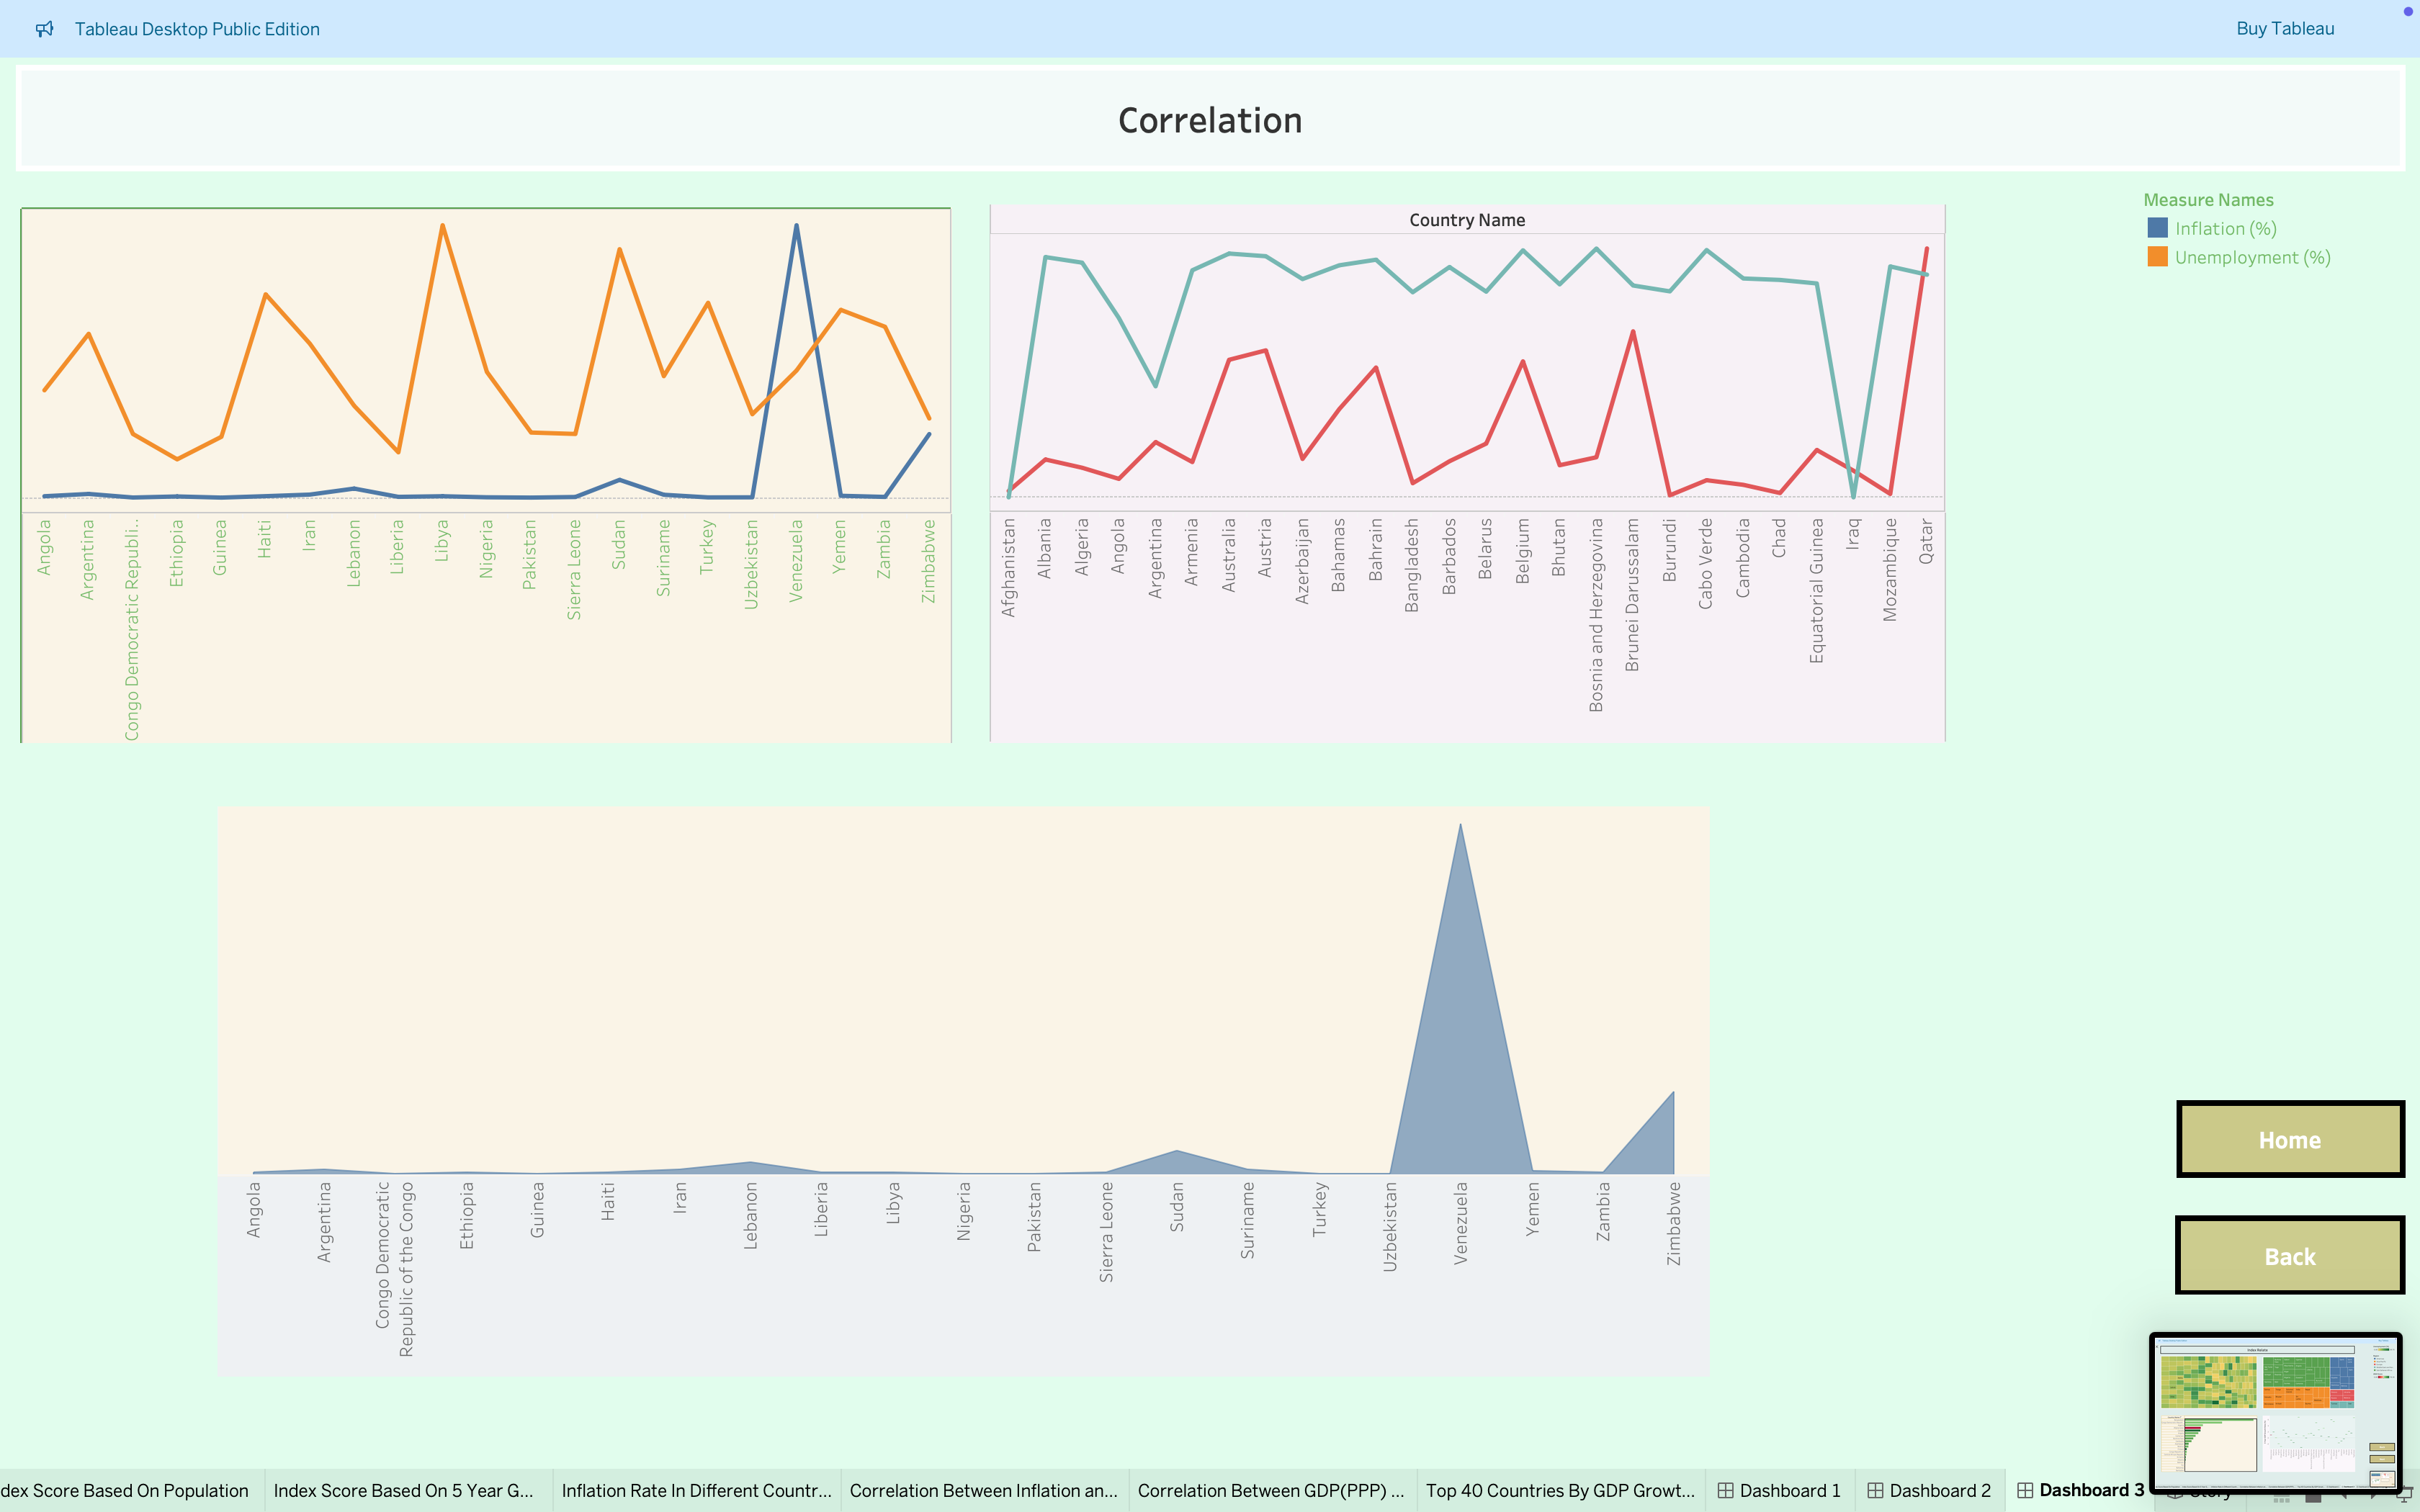

This screenshot's page, from the dashboard's own definition file:
{"tool":"tableau","page":{"name":"Dashboard 3","canvas":[1000,1000],"units":"permille","ordinal":2},"visuals":[{"type":"title","box":[6.8,5.5,987.8,75.2]},{"type":"legend","title":"Correlation Between Inflation and Unemployment Rate","param":"[federated.042wyc91rotaj818snlb71x89js2].[:Measure Names]","box":[883.6,88.2,108.9,100.2]},{"type":"worksheet","title":"Correlation Between GDP(PPP) And Monetary Freedom","mark":"Line","rows":["GDP per Capita (PPP)","Monetary Freedom"],"cols":["Country Name"],"box":[409.1,104.6,395.5,381.3]},{"type":"worksheet","title":"Correlation Between Inflation and Unemployment Rate","mark":"Line","rows":["Inflation (%)","Unemployment (%)"],"cols":["Country Name"],"box":[8.2,105.7,385.3,380.2]},{"type":"worksheet","title":"Inflation Rate In Different Countries","mark":"Area","rows":["Inflation (%)"],"cols":["Country Name"],"box":[89.9,530.5,616.8,404.1]},{"type":"dashboard-object","box":[899.2,738.6,94.6,55.6]},{"type":"dashboard-object","box":[898.6,820.3,95.3,56.6]}]}

Visuals, with their boxes on the dashboard's canvas, which has no fixed pixel size, in thousandths of its width and height (x1, y1, x2, y2). These are canvas units, not pixel positions in the 2420x1512 screenshot, which may show the page scaled, cropped or inside an application window:
title: [7,6,995,81]
"Correlation Between Inflation and Unemployment Rate" legend: [884,88,992,188]
"Correlation Between GDP(PPP) And Monetary Freedom" worksheet (Line marks): [409,105,805,486]
"Correlation Between Inflation and Unemployment Rate" worksheet (Line marks): [8,106,394,486]
"Inflation Rate In Different Countries" worksheet (Area marks): [90,530,707,935]
dashboard-object: [899,739,994,794]
dashboard-object: [899,820,994,877]
